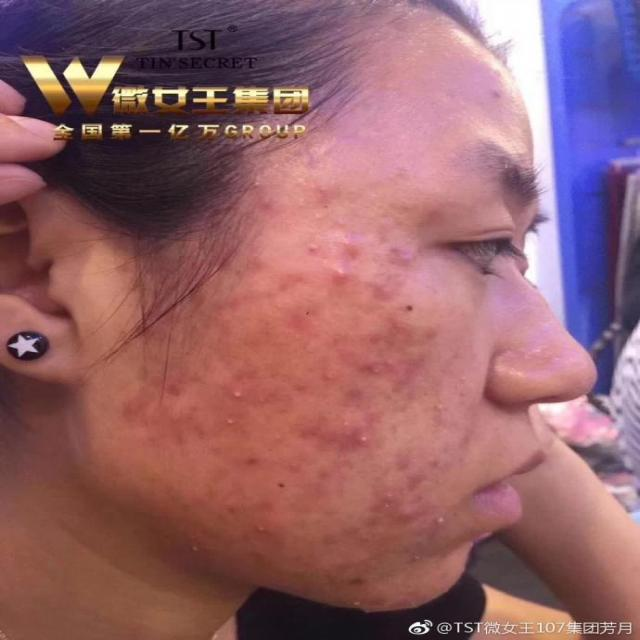nodule: (267, 453, 329, 488), (338, 584, 388, 626), (302, 358, 351, 392), (184, 406, 229, 438), (289, 177, 356, 198), (160, 404, 191, 449), (100, 395, 151, 420), (176, 536, 214, 566), (193, 292, 244, 314), (288, 406, 320, 441), (149, 371, 203, 391), (276, 308, 320, 331), (322, 408, 362, 433), (394, 468, 433, 493), (236, 514, 272, 541), (386, 588, 427, 611), (309, 458, 347, 482), (319, 428, 357, 452), (274, 266, 309, 291), (398, 347, 426, 377), (338, 380, 368, 408), (243, 543, 278, 566), (233, 254, 273, 274), (262, 377, 295, 401), (309, 262, 345, 284), (428, 502, 452, 534), (355, 408, 384, 434), (328, 212, 356, 237), (294, 334, 327, 355), (326, 327, 356, 350), (316, 528, 347, 550), (365, 226, 399, 246), (424, 398, 453, 421), (175, 496, 210, 515), (388, 232, 409, 263), (304, 207, 335, 228), (386, 502, 418, 522), (224, 445, 254, 466), (316, 567, 346, 588), (384, 371, 415, 391), (252, 198, 286, 216), (211, 493, 240, 514), (248, 496, 280, 515), (381, 448, 416, 465), (227, 424, 258, 443), (348, 348, 376, 369), (360, 276, 394, 293), (300, 239, 334, 256), (244, 177, 274, 196), (264, 427, 288, 450), (333, 237, 365, 254), (402, 548, 432, 566), (349, 530, 378, 548), (340, 556, 366, 575), (352, 433, 375, 452), (452, 372, 476, 390), (212, 380, 240, 395), (436, 582, 457, 602), (166, 304, 187, 323), (358, 331, 390, 343), (378, 491, 396, 512), (384, 320, 409, 335), (452, 563, 476, 576), (229, 364, 265, 371), (409, 327, 437, 334)
